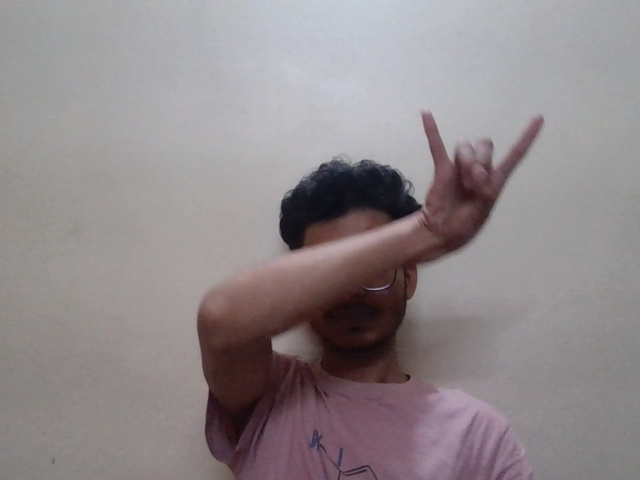i-love-you: (411, 94, 560, 239)
